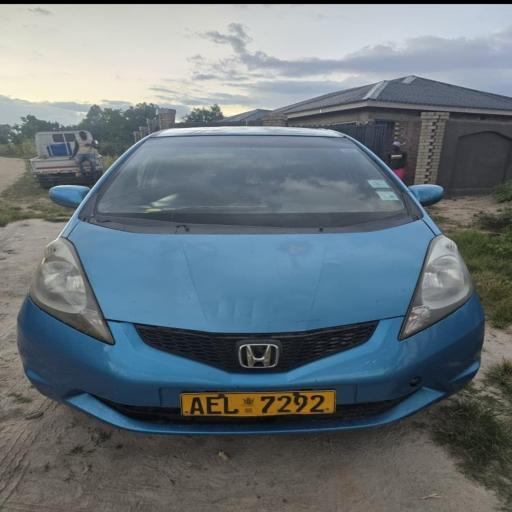number-plates: (178, 389, 338, 419)
